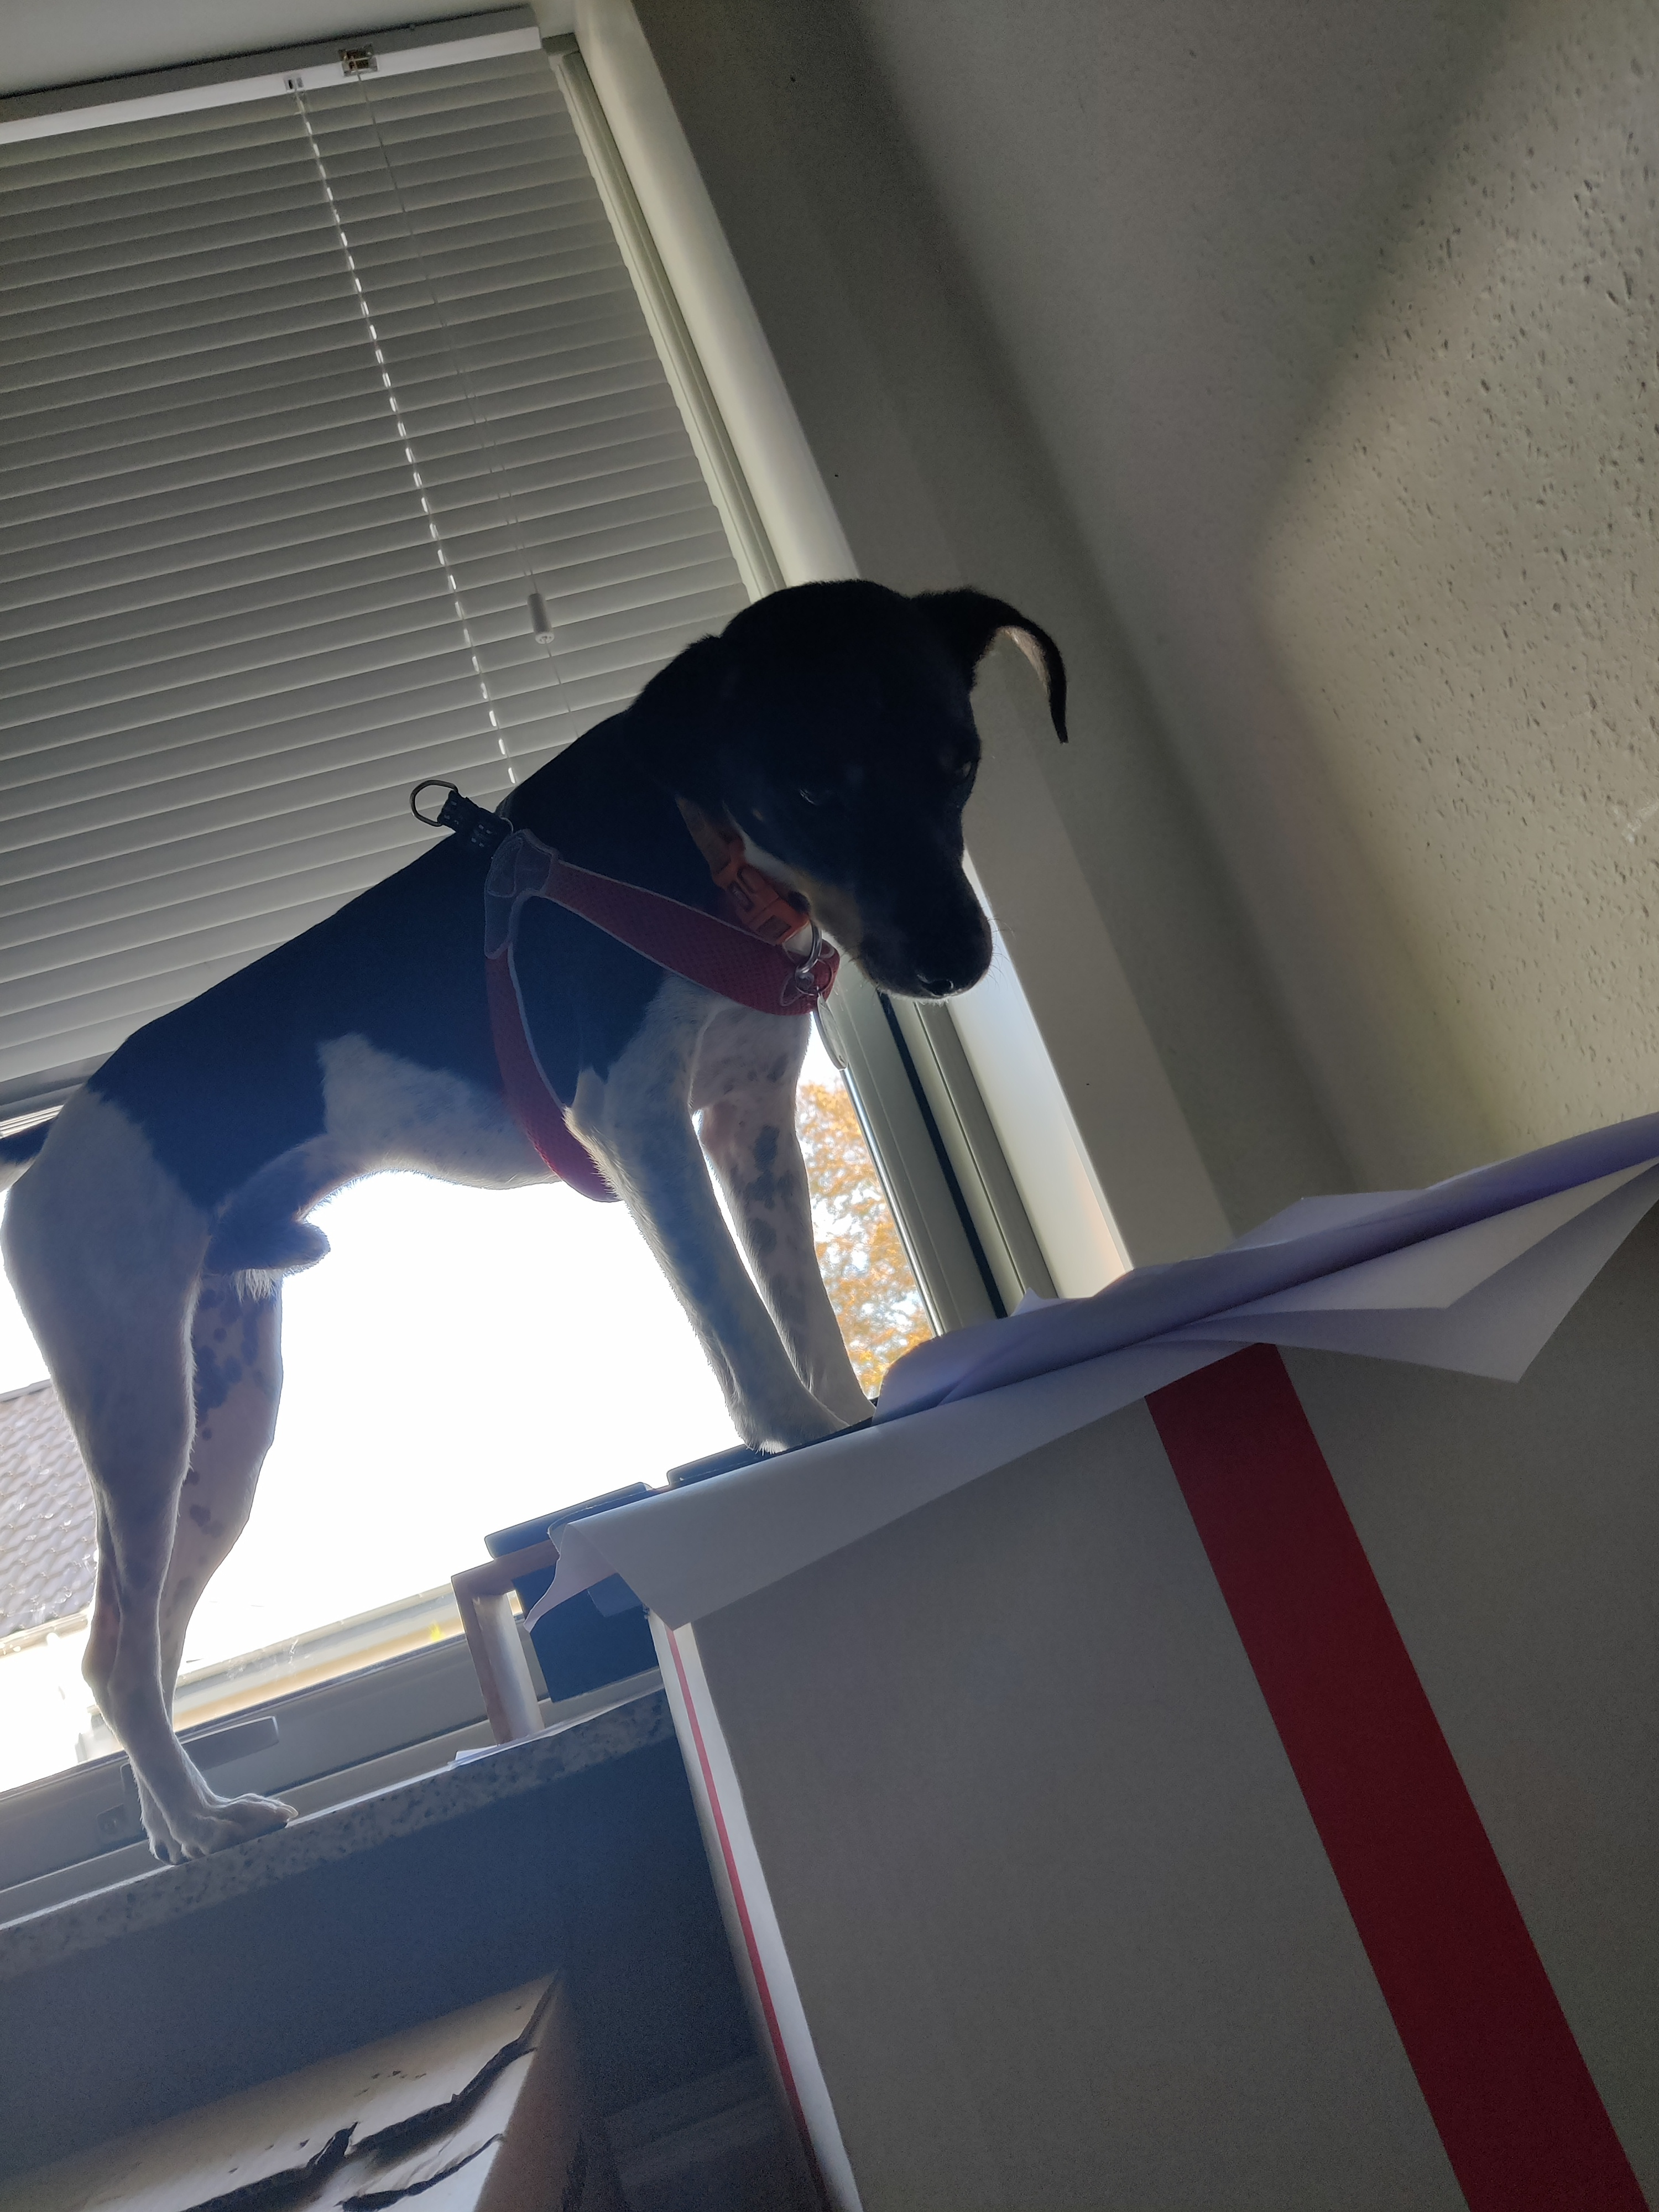Dog: (0, 561, 1094, 1871)
